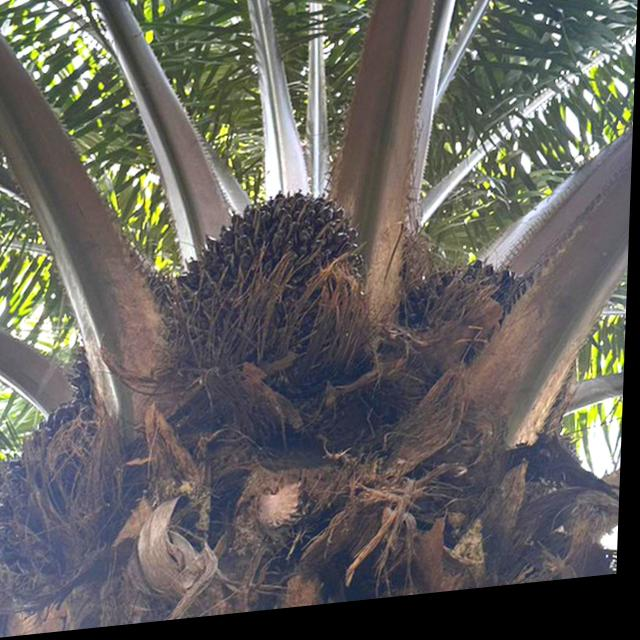almost: (169, 180, 377, 418), (0, 332, 160, 579), (410, 257, 570, 402)
